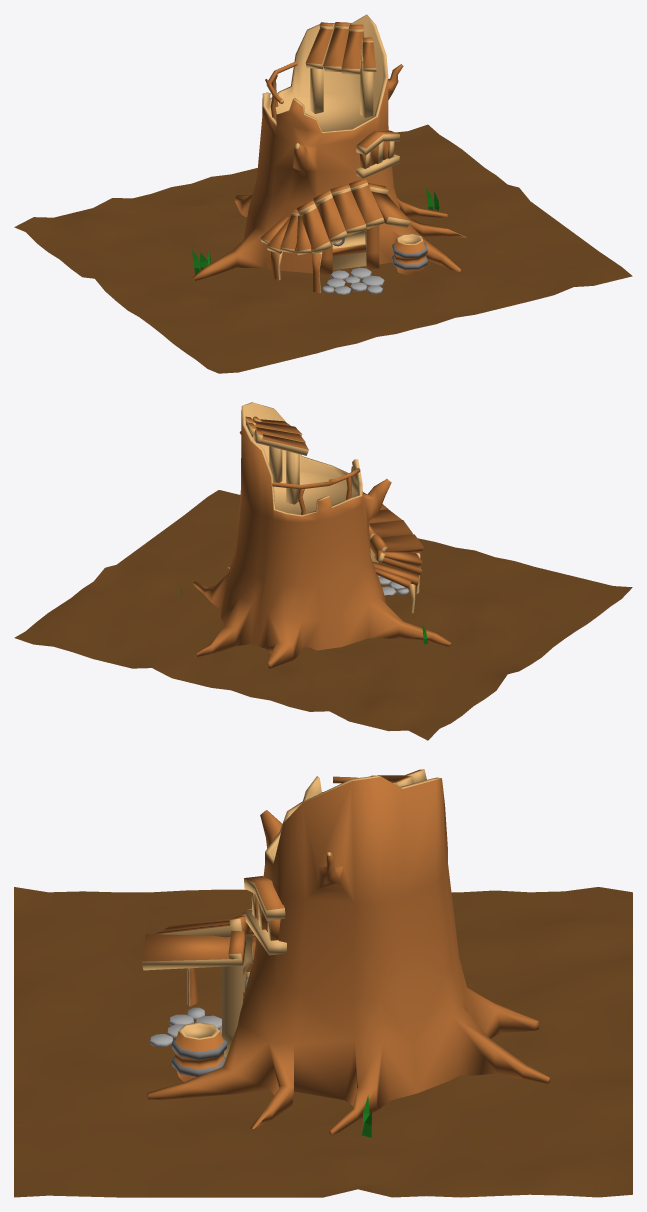
File: Low_Poly_Tree_House_1772162482625.glb
3 renders of one model, top to bottom at view 1: azimuth 30°, elevation 25°; view 2: azimuth 150°, elevation 25°; view 3: azimuth 270°, elevation 25°, orthographic. The views are drawn at different scales.
Parts seen in each view (by area): view 1: Cylinder.001_Cylinder.004, Cylinder; view 2: Cylinder.001_Cylinder.004, Cylinder; view 3: Cylinder.001_Cylinder.004, Cylinder.
Boxes of the visible parts, x1,y1,x2,y2 form: Cylinder.001_Cylinder.004: (14,124,632,373); Cylinder: (192,14,466,294); Cylinder.001_Cylinder.004: (14,490,632,740); Cylinder: (180,402,451,668); Cylinder.001_Cylinder.004: (14,887,632,1197); Cylinder: (142,769,549,1137).
Bounding box in the file's own units: 8.01 × 3.89 × 6.86.
